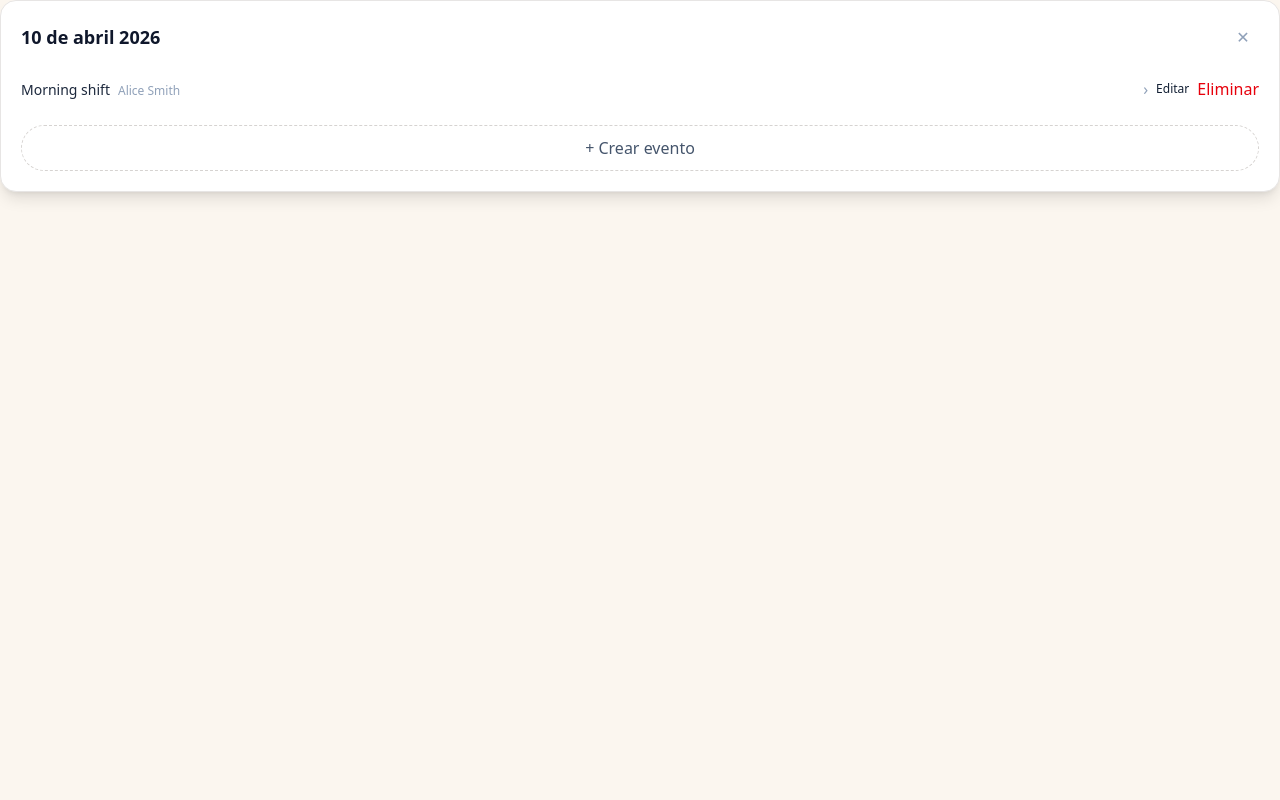
Scenario: DayDetailPanel › shows scope radio options for recurring event delete
What coordinates should you click on to do the following:
click the button "Eliminar"
I would click on:
 (1228, 89)
Its box is [1197,77,1259,101].
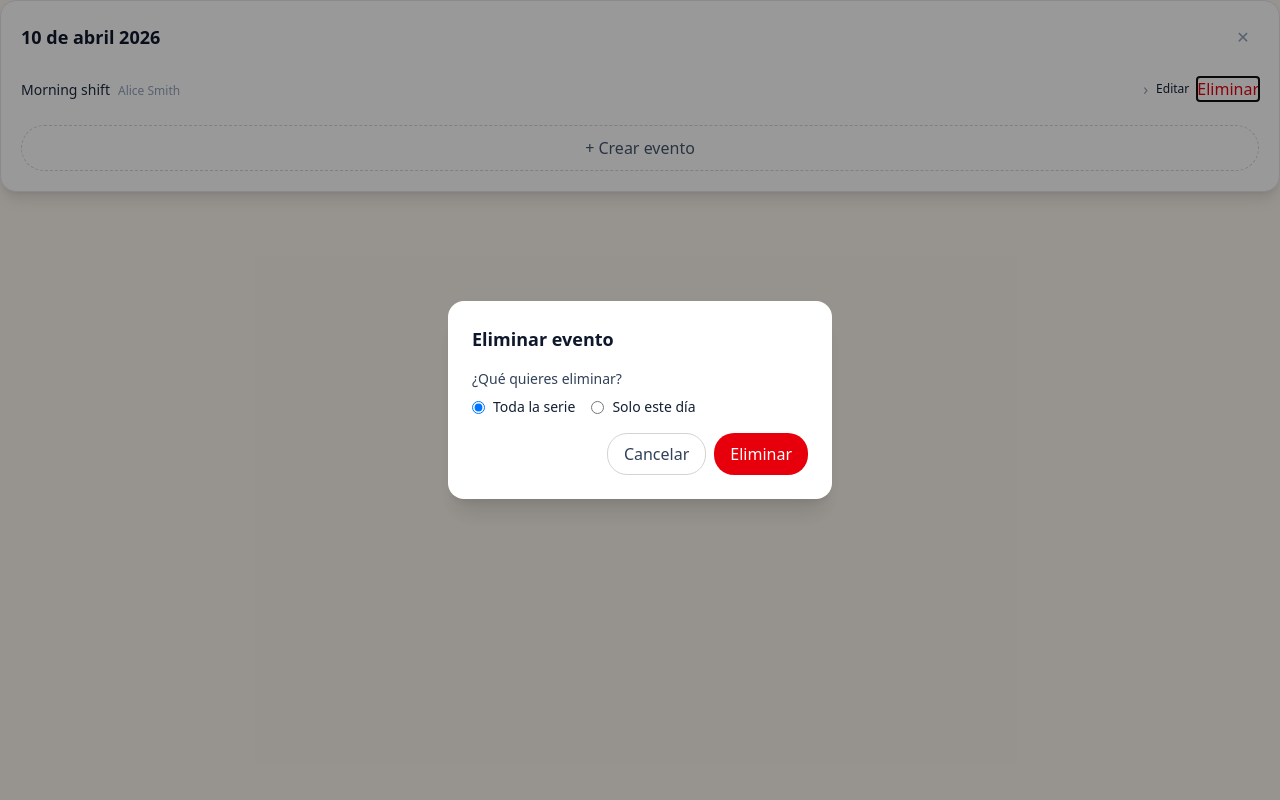
Expected: the text "Toda la serie" is shown, [472,397,575,417]
Expected: the text "Solo este día" is shown, [591,397,696,417]
